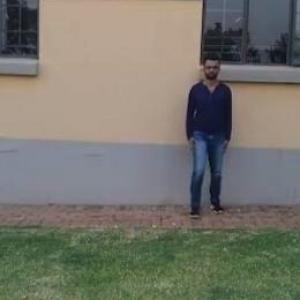follow: (187, 51, 234, 213)
